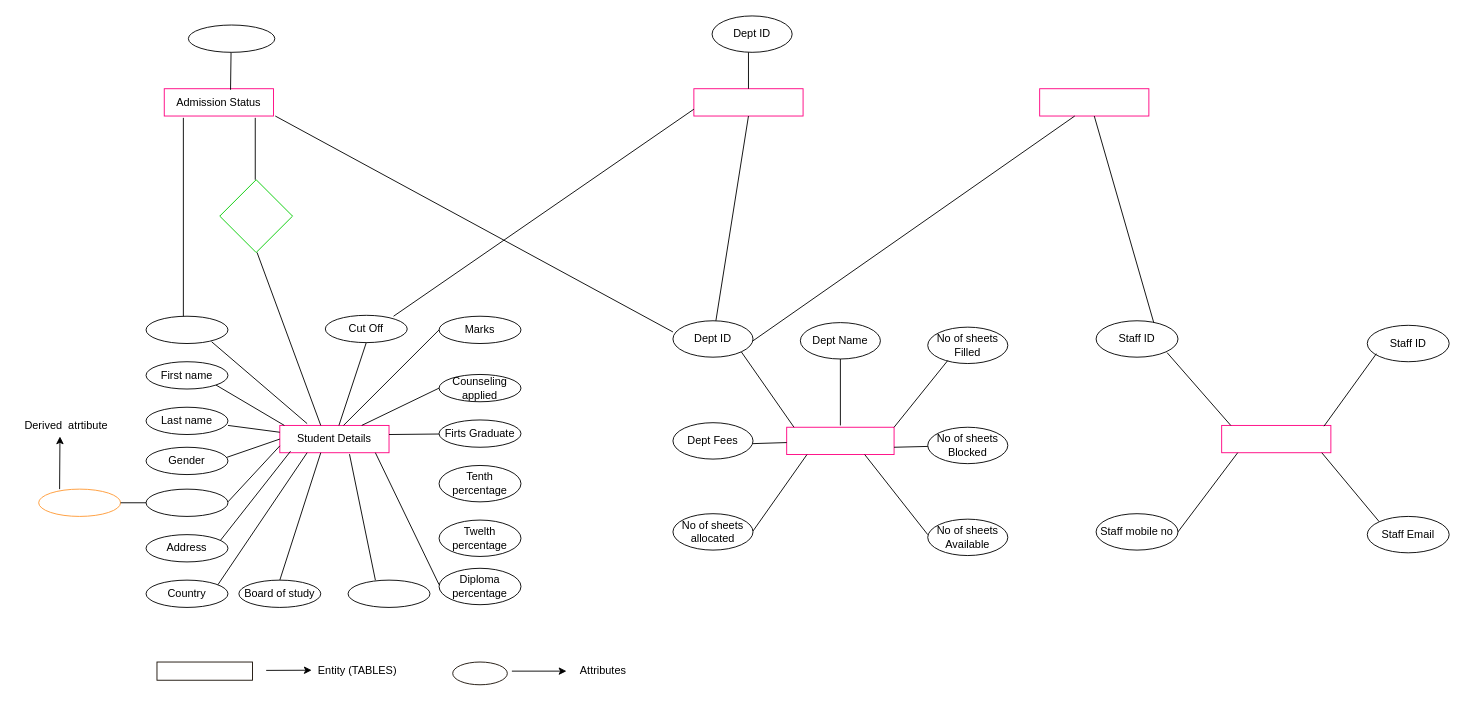
Some shapes in this 1465 by 701 pixel diagram are drawn without their labels. The shapes that lost their labels are listed below. From the top down, each one's centre as x and y in pixels, then its label:
At point (231, 38): "Hostel needed".
At point (748, 102): "Scholarship".
At point (1094, 102): "Staff Incharge".
At point (256, 216): "To put admission".
At point (186, 329): "Student ID".
At point (840, 440): "Department Details".
At point (1276, 439): "Staff Details".
At point (79, 502): "Age".
At point (186, 502): "Date of Birth".
At point (388, 593): "Annual Income".
